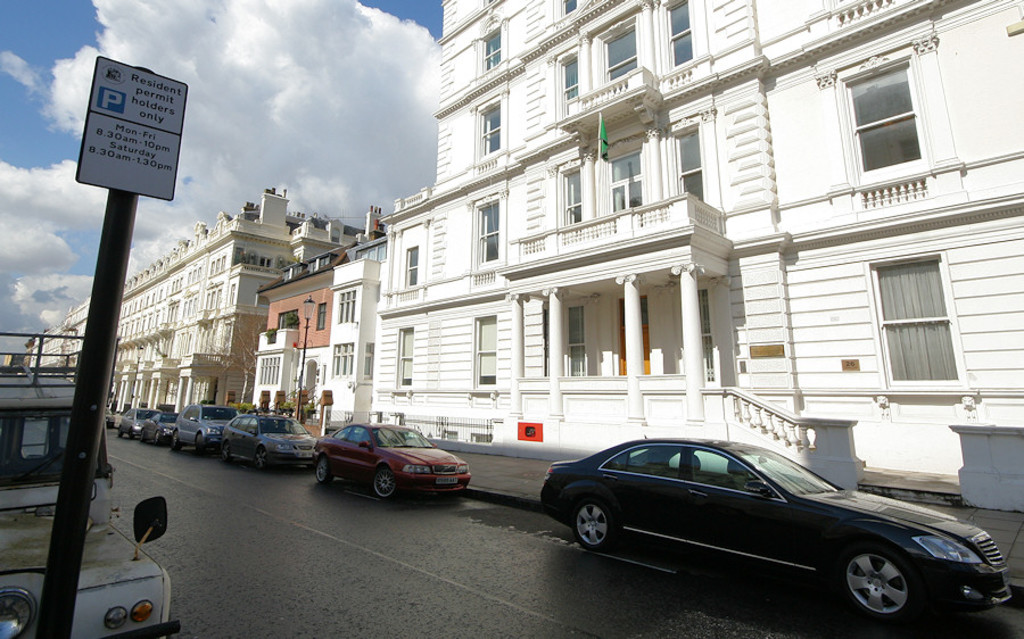Car: (539, 436, 1012, 626), (104, 400, 468, 500)
